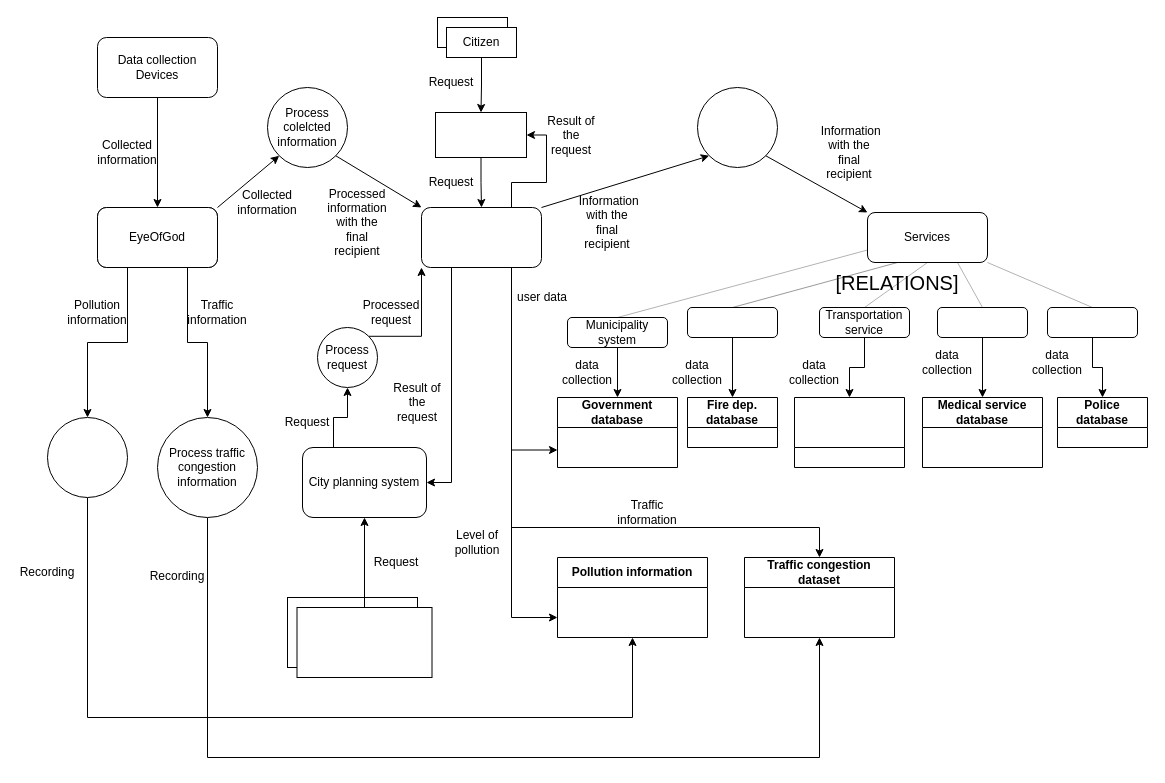
The diagram is 1165 pixels wide and 783 high, and some of its shapes have lost their labels. The shapes that lost their labels are listed below. From the top down, each one's box as (x1, y1, x2, y2) in pixels, then its label:
(434, 112, 526, 158): Mobile App
(696, 86, 778, 168): Forwarding information
(420, 206, 542, 268): WiseWorld Kernel
(686, 306, 778, 338): Fire Department
(936, 306, 1028, 338): Medical service
(1046, 306, 1138, 338): Police Department
(794, 396, 904, 468): Transportation service database
(46, 416, 128, 498): Process polution information
(296, 606, 432, 678): City planner's user
